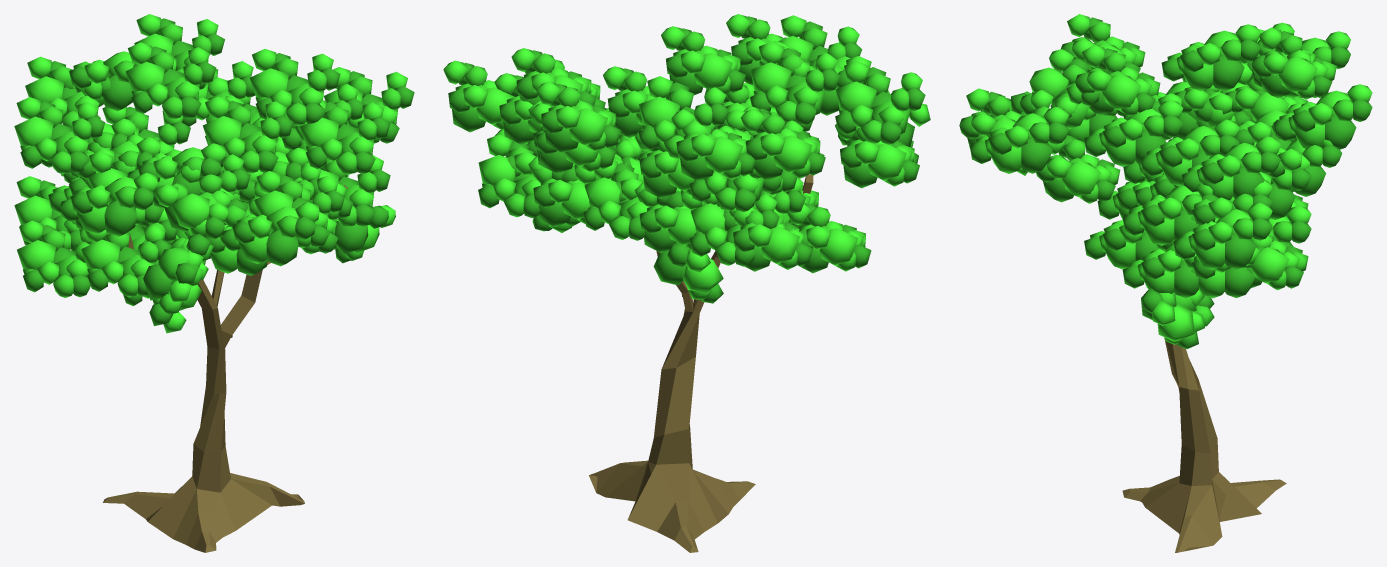
File: tree.glb
The picture shows the model from 3 angles, left to right: view 1: azimuth 30°, elevation 25°; view 2: azimuth 150°, elevation 25°; view 3: azimuth 270°, elevation 25°; orthographic projection. The views are drawn at different scales.
Parts seen in each view (by area): view 1: Cube.003, Icosphere.018, Icosphere.029, Icosphere.007, Icosphere.019, Icosphere.006, Icosphere.010, Icosphere.049, Icosphere.005, Icosphere.044, Icosphere.045, Icosphere.009 (+23 smaller); view 2: Cube.003, Icosphere.045, Icosphere.040, Icosphere.021, Icosphere.051, Icosphere.029, Icosphere.018, Icosphere.028, Icosphere.027, Icosphere.041, Icosphere.049, Icosphere.044 (+19 smaller); view 3: Cube.003, Icosphere.018, Icosphere.020, Icosphere.042, Icosphere.051, Icosphere.021, Icosphere.040, Icosphere.008, Icosphere.007, Icosphere.004, Icosphere.005, Icosphere.019 (+21 smaller).
Part boxes in pixels (x1,y1,x2,y2): Cube.003: (103, 185, 347, 552); Icosphere.018: (125, 42, 216, 119); Icosphere.029: (14, 97, 105, 174); Icosphere.007: (249, 49, 340, 125); Icosphere.019: (202, 96, 293, 173); Icosphere.006: (300, 100, 390, 174); Icosphere.010: (143, 234, 213, 333); Icosphere.049: (17, 220, 94, 297); Icosphere.005: (153, 165, 248, 239); Icosphere.044: (81, 225, 171, 297); Icosphere.045: (60, 172, 157, 236); Icosphere.009: (222, 202, 319, 266); Cube.003: (589, 174, 813, 552); Icosphere.045: (835, 61, 925, 144); Icosphere.040: (750, 42, 840, 125); Icosphere.021: (638, 76, 728, 158); Icosphere.051: (536, 81, 621, 153); Icosphere.029: (740, 108, 825, 180); Icosphere.018: (661, 26, 745, 95); Icosphere.028: (478, 134, 565, 218); Icosphere.027: (583, 160, 672, 240); Icosphere.041: (671, 109, 755, 181); Icosphere.049: (787, 203, 871, 273); Icosphere.044: (835, 124, 919, 188); Cube.003: (1122, 337, 1286, 552); Icosphere.018: (1161, 24, 1260, 91); Icosphere.020: (969, 107, 1068, 173); Icosphere.042: (1173, 203, 1272, 269); Icosphere.051: (1273, 84, 1372, 149); Icosphere.021: (1251, 27, 1336, 99); Icosphere.040: (1075, 45, 1160, 116); Icosphere.008: (1084, 100, 1183, 166); Icosphere.007: (1181, 136, 1280, 200); Icosphere.004: (1036, 135, 1120, 203); Icosphere.005: (1020, 49, 1099, 128); Icosphere.019: (1140, 119, 1239, 186).
Bounding box in the file's own units: 10.44 × 11.88 × 9.41.
